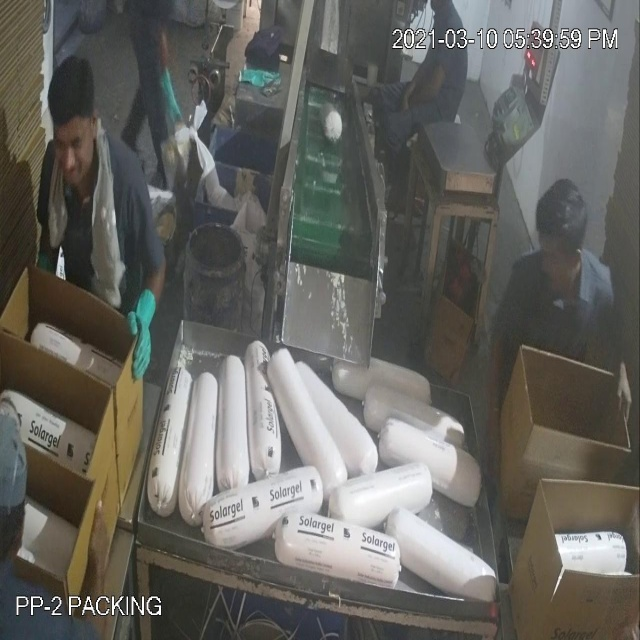Guantes: (124, 263, 167, 392), (160, 60, 182, 132)
Sin_guantes: (480, 312, 519, 515), (400, 53, 457, 121)
